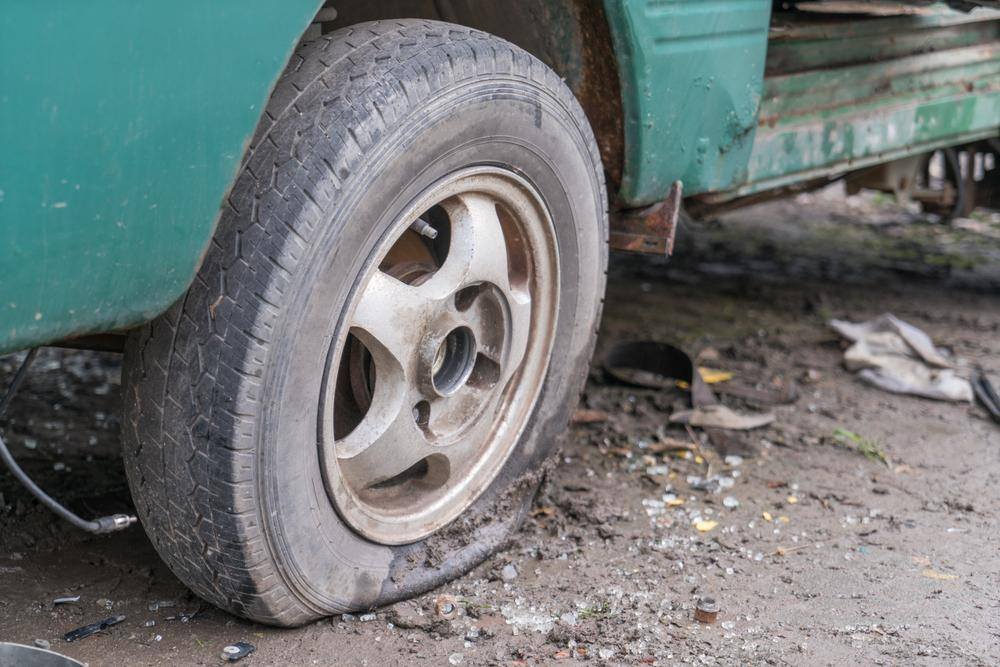tire flat: (119, 19, 610, 629)
